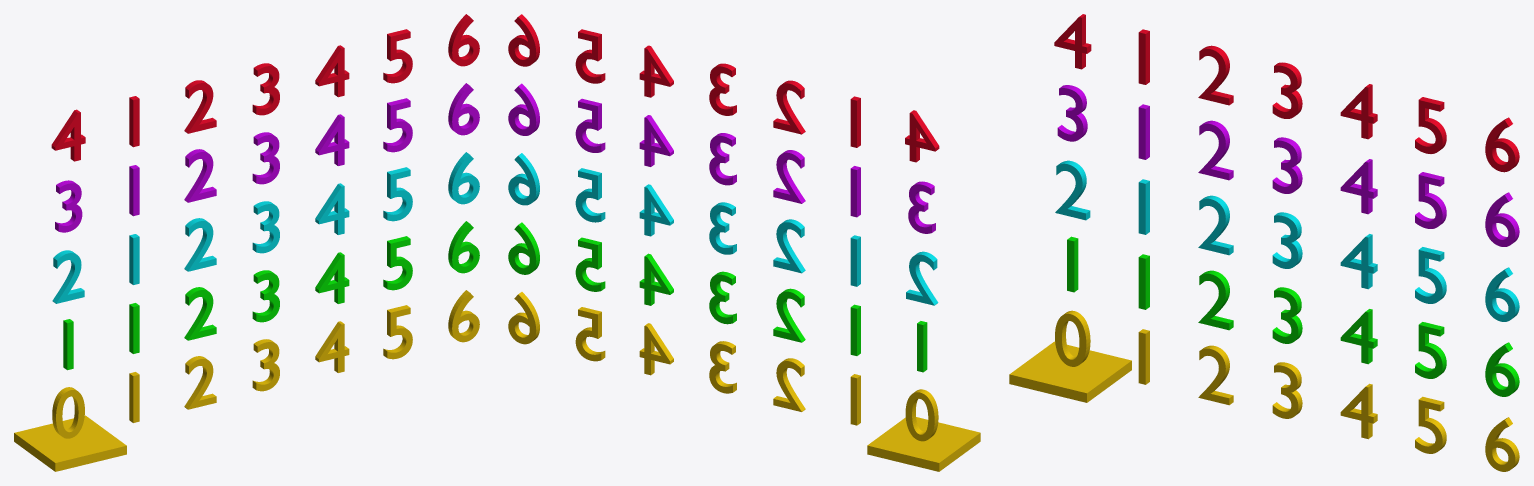
The model's file is vhkey.glb.
3 views of the same model, side by side, from view 1: azimuth 30°, elevation 25°; view 2: azimuth 150°, elevation 25°; view 3: azimuth 330°, elevation 25° (orthographic). The views are drawn at different scales.
Parts seen in each view (by area): view 1: Plane.000, Plane.016, Plane.021, Plane.033, Plane.010, Plane.027, Plane.002, Plane.029, Plane.006, Plane.012, Plane.017, Plane.023 (+23 smaller); view 2: Plane.000, Plane.033, Plane.016, Plane.010, Plane.021, Plane.027, Plane.017, Plane.002, Plane.006, Plane.023, Plane.012, Plane.029 (+23 smaller); view 3: Plane.000, Plane.009, Plane.032, Plane.015, Plane.020, Plane.026, Plane.033, Plane.010, Plane.027, Plane.016, Plane.021, Plane.003 (+23 smaller).
Part boxes in pixels (x1=…): Plane.000: x1=14, y1=387, x2=126, y2=471; Plane.016: x1=448, y1=221, x2=479, y2=273; Plane.021: x1=448, y1=152, x2=479, y2=204; Plane.033: x1=448, y1=14, x2=479, y2=66; Plane.010: x1=448, y1=290, x2=479, y2=342; Plane.027: x1=448, y1=83, x2=479, y2=135; Plane.002: x1=52, y1=250, x2=84, y2=303; Plane.029: x1=184, y1=80, x2=216, y2=133; Plane.006: x1=184, y1=356, x2=216, y2=409; Plane.012: x1=184, y1=287, x2=216, y2=340; Plane.017: x1=184, y1=218, x2=216, y2=271; Plane.023: x1=184, y1=149, x2=216, y2=202; Plane.000: x1=867, y1=389, x2=980, y2=471; Plane.033: x1=508, y1=14, x2=539, y2=66; Plane.016: x1=508, y1=222, x2=539, y2=274; Plane.010: x1=508, y1=292, x2=539, y2=344; Plane.021: x1=508, y1=153, x2=539, y2=205; Plane.027: x1=508, y1=83, x2=539, y2=135; Plane.017: x1=773, y1=219, x2=805, y2=273; Plane.002: x1=906, y1=251, x2=938, y2=305; Plane.006: x1=773, y1=358, x2=805, y2=411; Plane.023: x1=773, y1=150, x2=805, y2=203; Plane.012: x1=773, y1=288, x2=805, y2=342; Plane.029: x1=773, y1=80, x2=805, y2=134; Plane.000: x1=1009, y1=310, x2=1131, y2=402; Plane.009: x1=1415, y1=396, x2=1446, y2=453; Plane.032: x1=1415, y1=97, x2=1446, y2=153; Plane.015: x1=1415, y1=322, x2=1446, y2=378; Plane.020: x1=1415, y1=247, x2=1446, y2=303; Plane.026: x1=1415, y1=172, x2=1446, y2=228; Plane.033: x1=1485, y1=117, x2=1519, y2=172; Plane.010: x1=1485, y1=417, x2=1519, y2=471; Plane.027: x1=1485, y1=192, x2=1519, y2=246; Plane.016: x1=1485, y1=342, x2=1519, y2=396; Plane.021: x1=1485, y1=267, x2=1519, y2=321; Plane.003: x1=1057, y1=85, x2=1087, y2=141.
Bounding box in the file's own units: 6.75 × 4.84 × 1.08.
